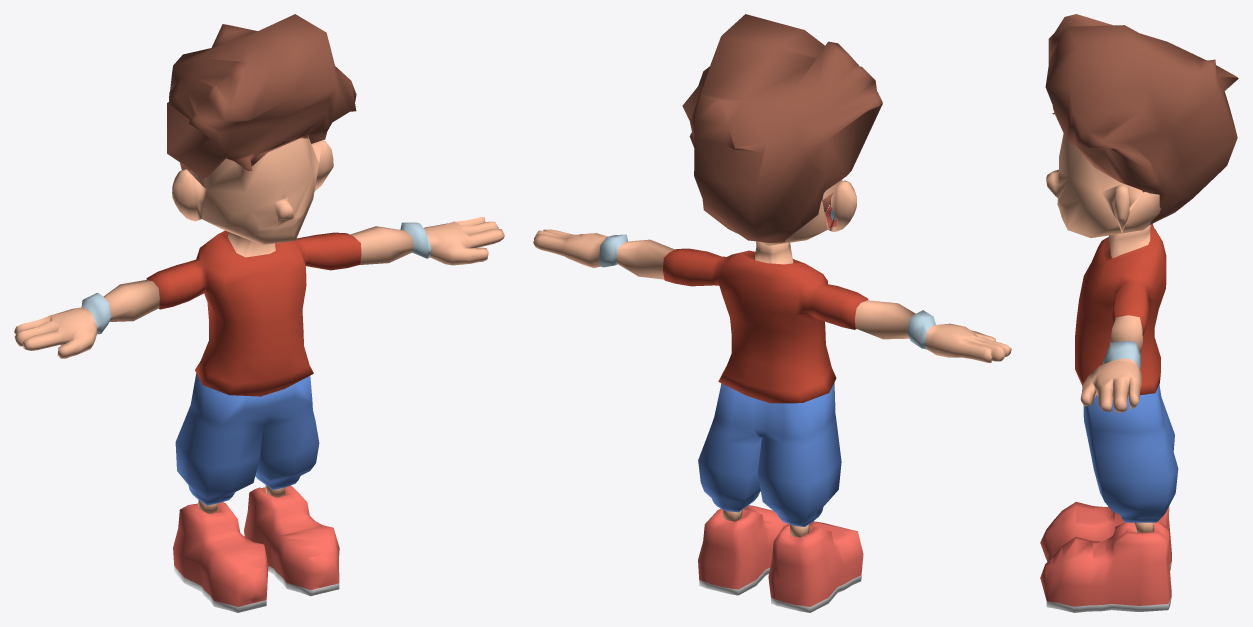
Rendered from Character.fbx.
3 renders of one model, left to right at view 1: azimuth 30°, elevation 25°; view 2: azimuth 150°, elevation 25°; view 3: azimuth 270°, elevation 25°, orthographic. The views are drawn at different scales.
Parts seen in each view (by area): view 1: Character; view 2: Character; view 3: Character.
Part boxes in pixels (left/top/right/bottom): Character: left=14, top=14, right=504, bottom=612; Character: left=533, top=14, right=1011, bottom=612; Character: left=1040, top=14, right=1238, bottom=612.
Bounding box in the file's own units: 287 × 313 × 100.
Materials: 1 (1 with a texture image).
